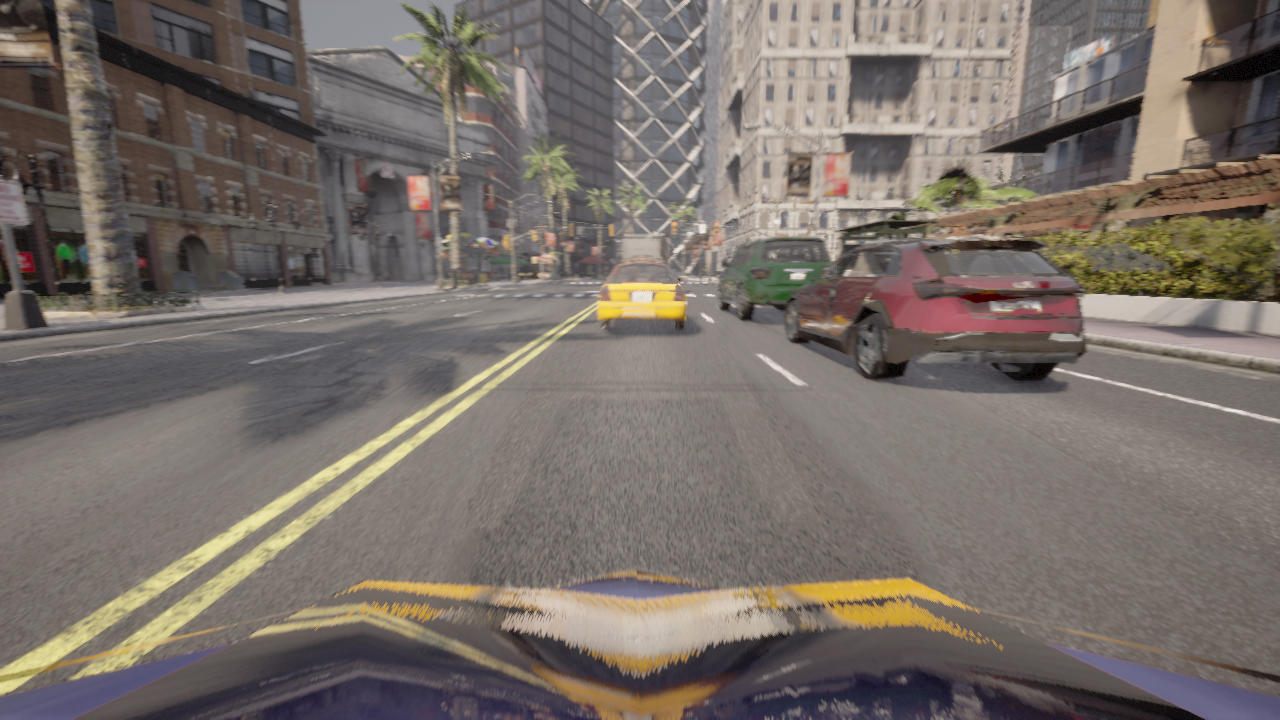cyclist: (0, 569, 1279, 719), (784, 235, 1086, 380), (717, 237, 831, 321), (598, 256, 686, 330), (618, 232, 674, 274)
